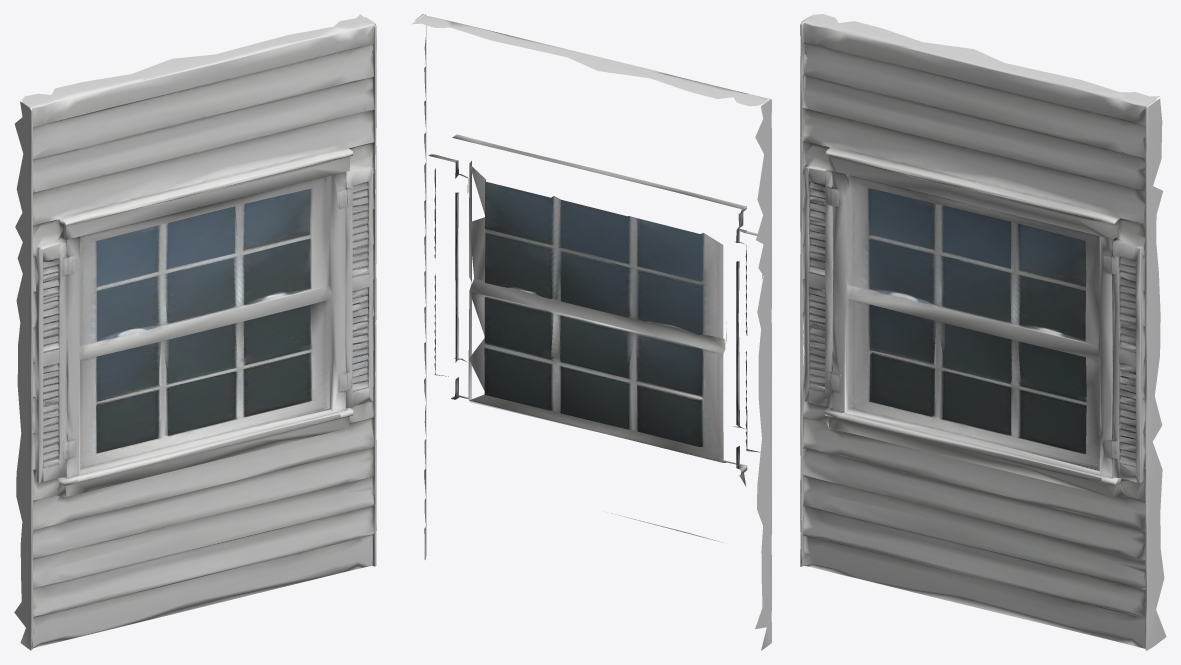
The model's file is kit-wall-window.glb.
3 renders of one model, left to right at view 1: azimuth 30°, elevation 25°; view 2: azimuth 150°, elevation 25°; view 3: azimuth 330°, elevation 25°, orthographic.
Parts seen in each view (by area): view 1: siding, glass, trim, shutters; view 2: glass, trim, siding, shutters; view 3: siding, glass, trim, shutters.
Boxes of the visible parts, x1,y1,x2,y2 form: siding: (22, 14, 376, 649); glass: (79, 176, 329, 469); trim: (14, 17, 376, 650); shutters: (33, 169, 373, 490); glass: (469, 164, 725, 462); trim: (414, 14, 771, 650); siding: (412, 14, 767, 560); shutters: (434, 168, 762, 452); siding: (800, 14, 1159, 650); glass: (847, 188, 1099, 468); trim: (800, 17, 1166, 650); shutters: (804, 168, 1145, 497).
Size of the model in its own units: 2 by 3 by 0.2465.
2 materials, 2 textured.
